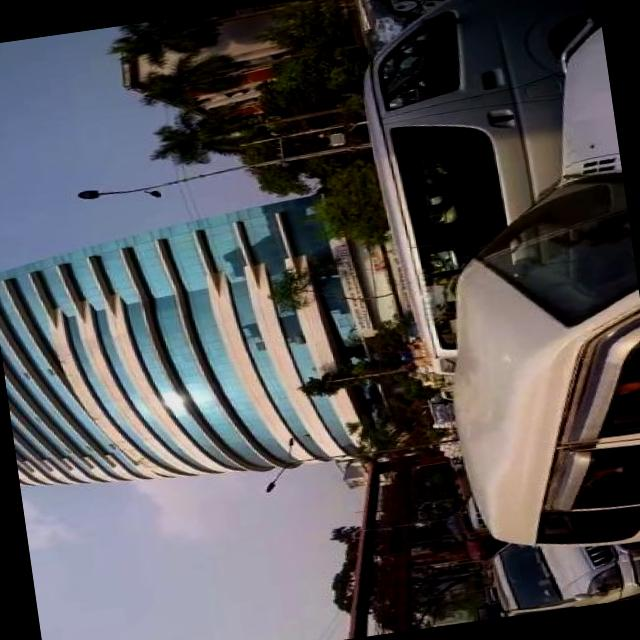car: (398, 13, 640, 563), (485, 518, 640, 617)
motorcycle: (354, 0, 473, 50)
truck: (345, 0, 627, 364), (440, 505, 490, 564)
